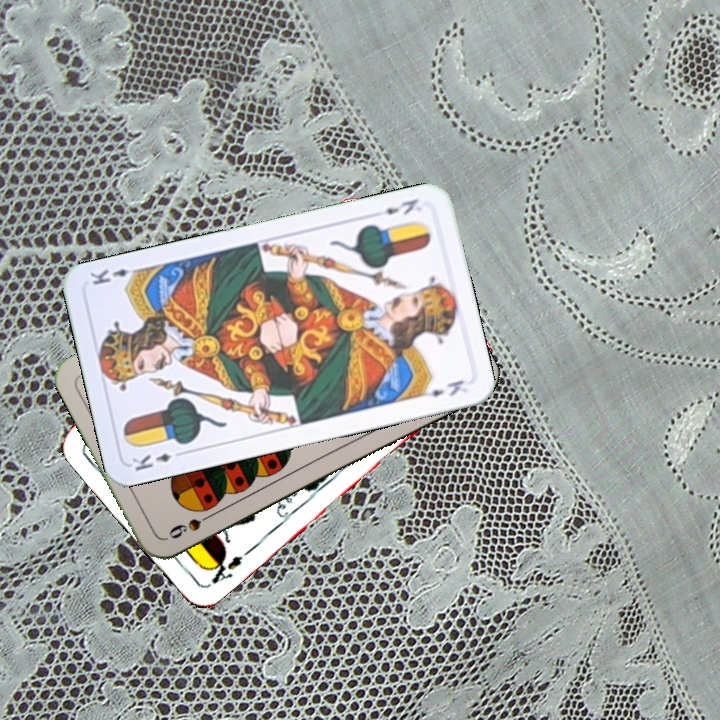EA: (203, 550, 246, 587)
EK: (127, 447, 187, 474), (381, 194, 421, 218)
S9: (164, 508, 218, 542)
